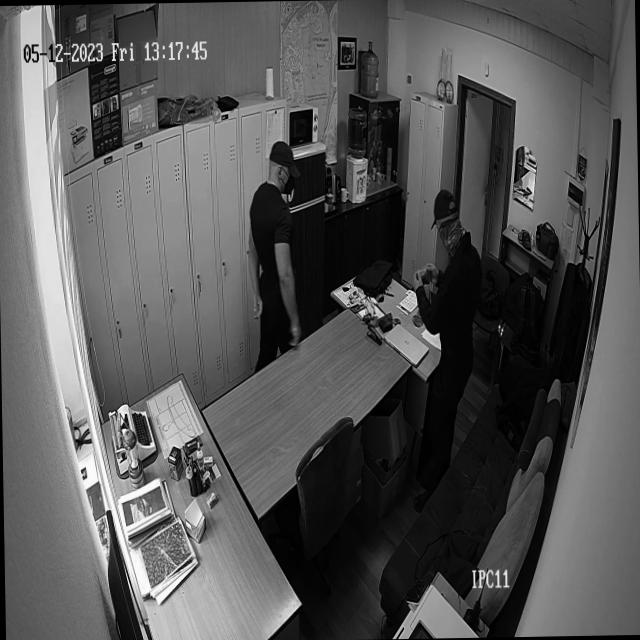person: (408, 186, 488, 516), (243, 140, 306, 376)
